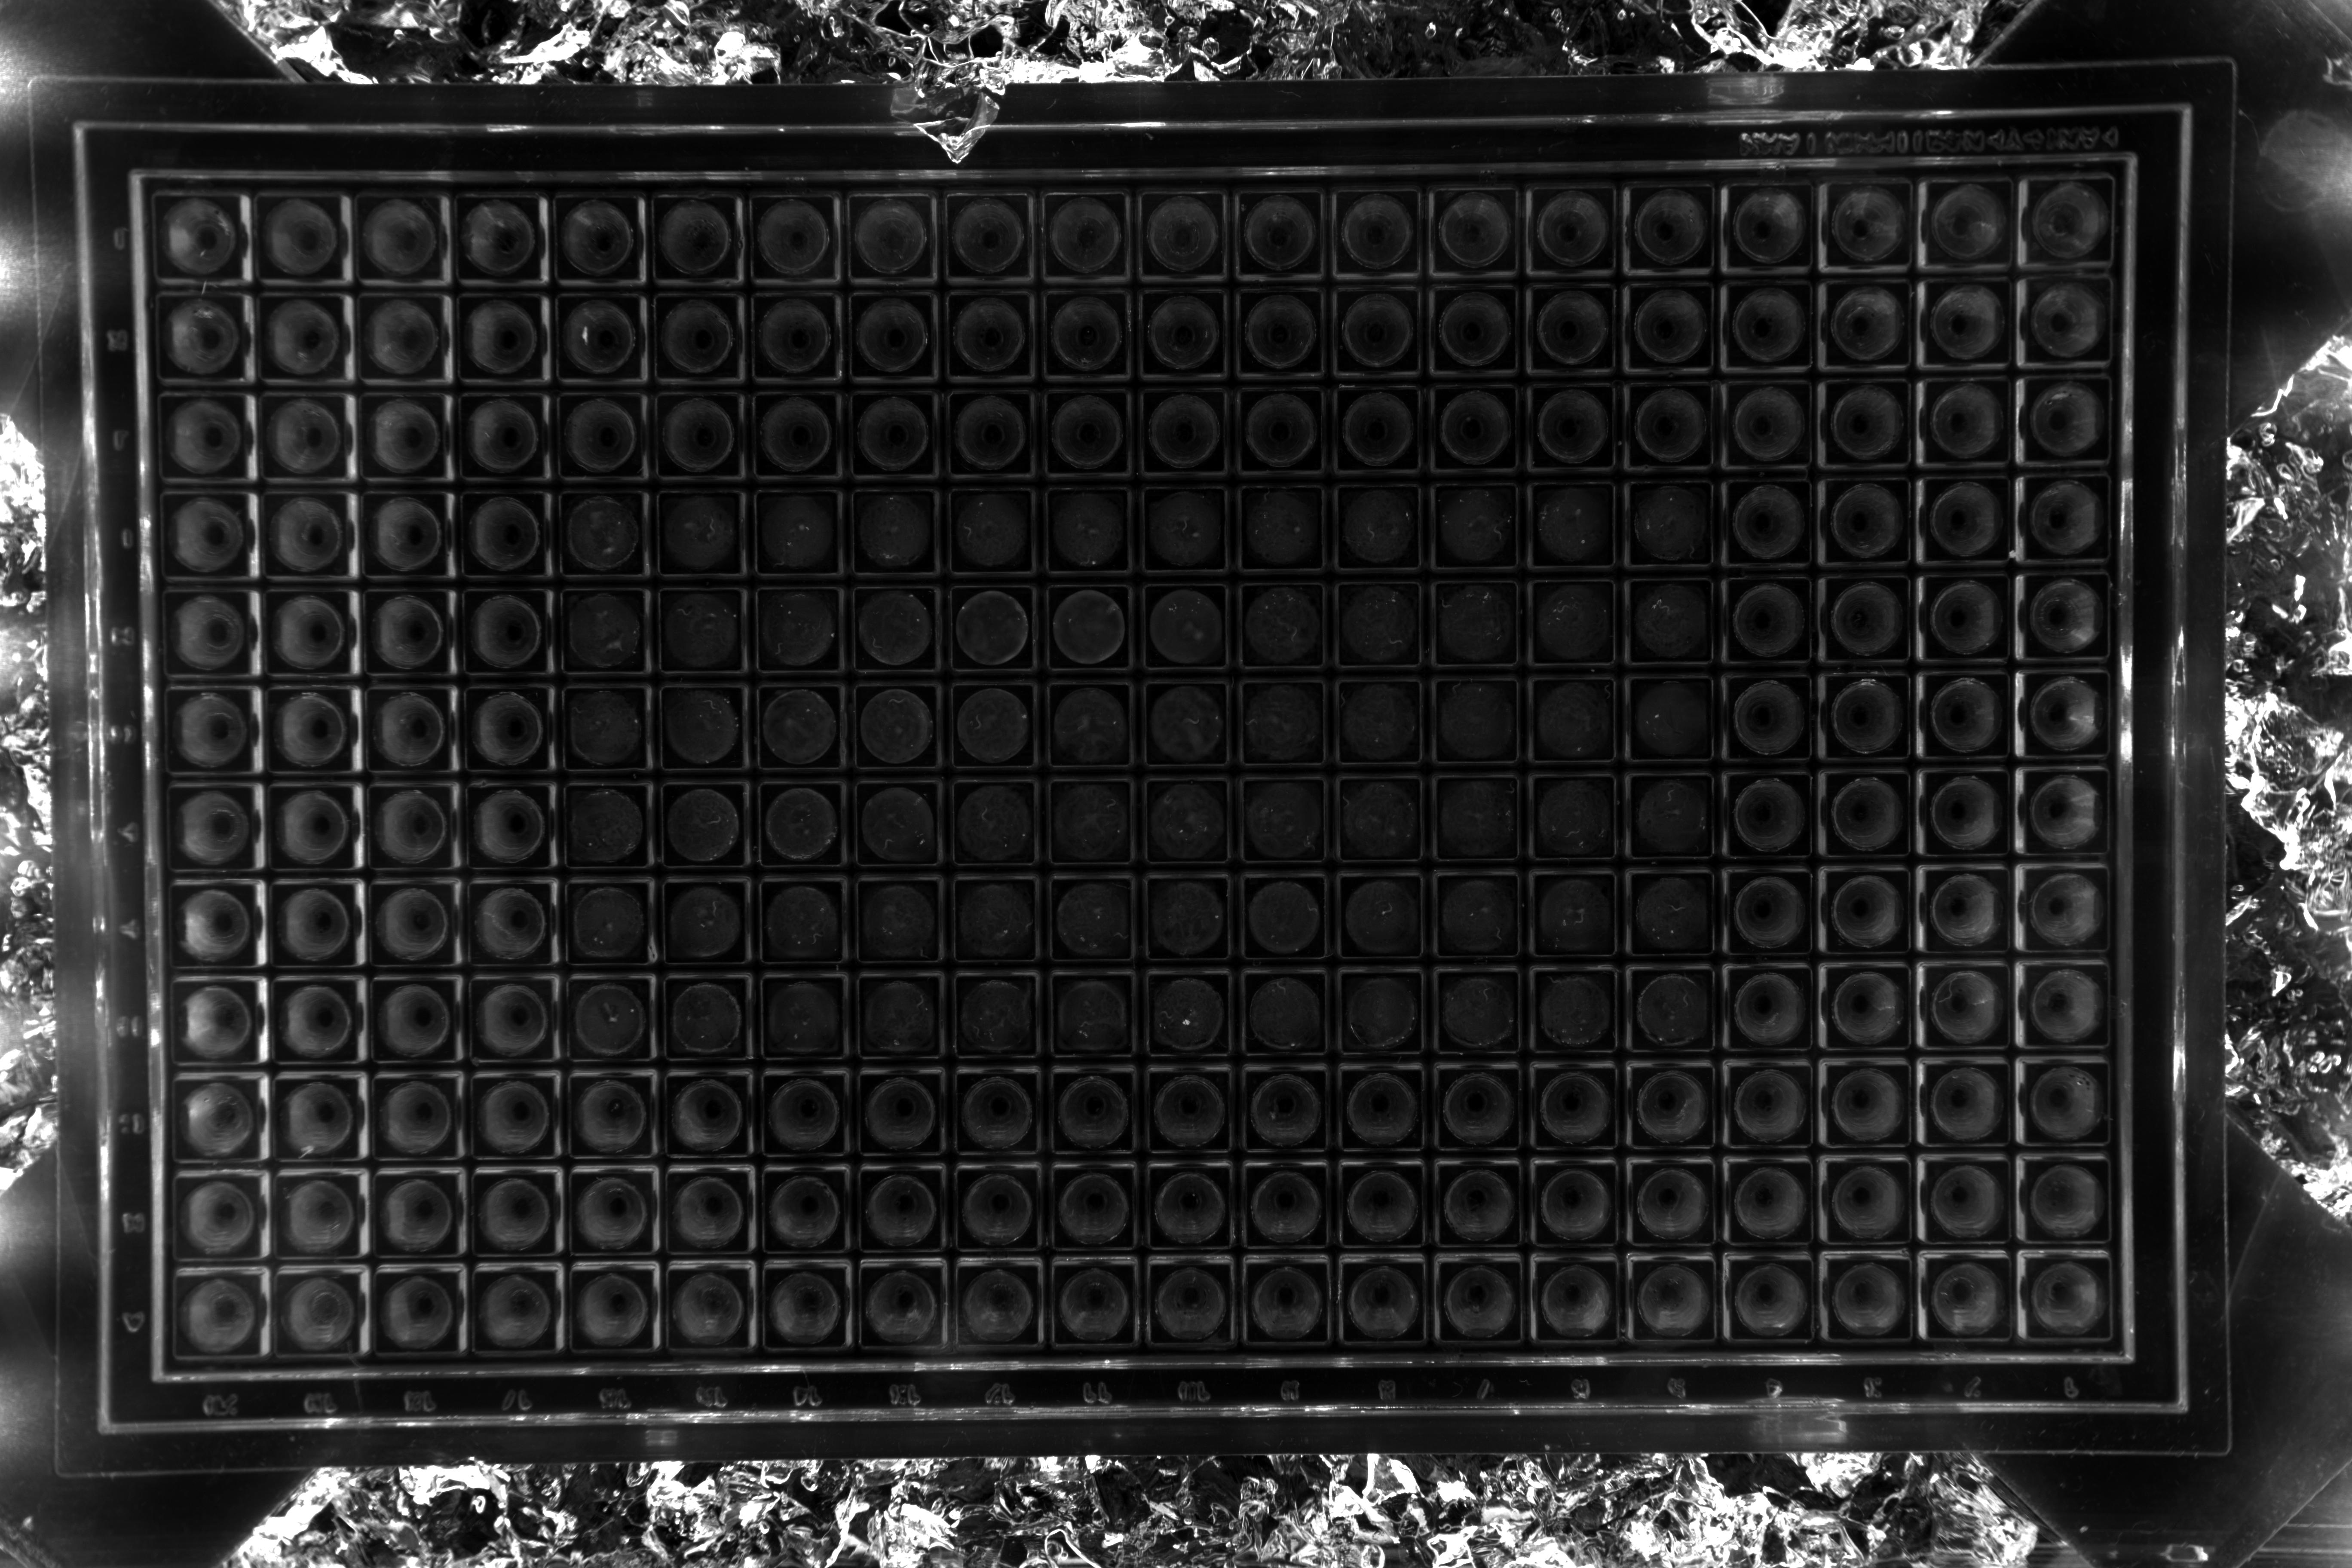WM_well: (201, 635, 290, 723), (689, 534, 779, 621), (1272, 1209, 1360, 1298), (1368, 1209, 1456, 1298), (401, 926, 488, 1013), (401, 1022, 488, 1109), (693, 922, 780, 1010), (782, 142, 870, 229), (784, 240, 871, 327), (884, 338, 971, 425), (983, 824, 1071, 912), (1080, 532, 1167, 619), (1080, 726, 1167, 814), (1176, 142, 1263, 229), (1274, 338, 1361, 425), (1468, 532, 1556, 619), (1561, 1211, 1648, 1298), (1661, 1017, 1748, 1104), (1662, 822, 1750, 910), (1766, 133, 1853, 220), (1857, 1213, 1944, 1300), (1858, 920, 1946, 1008), (1956, 1017, 2044, 1104), (2058, 821, 2145, 908)
